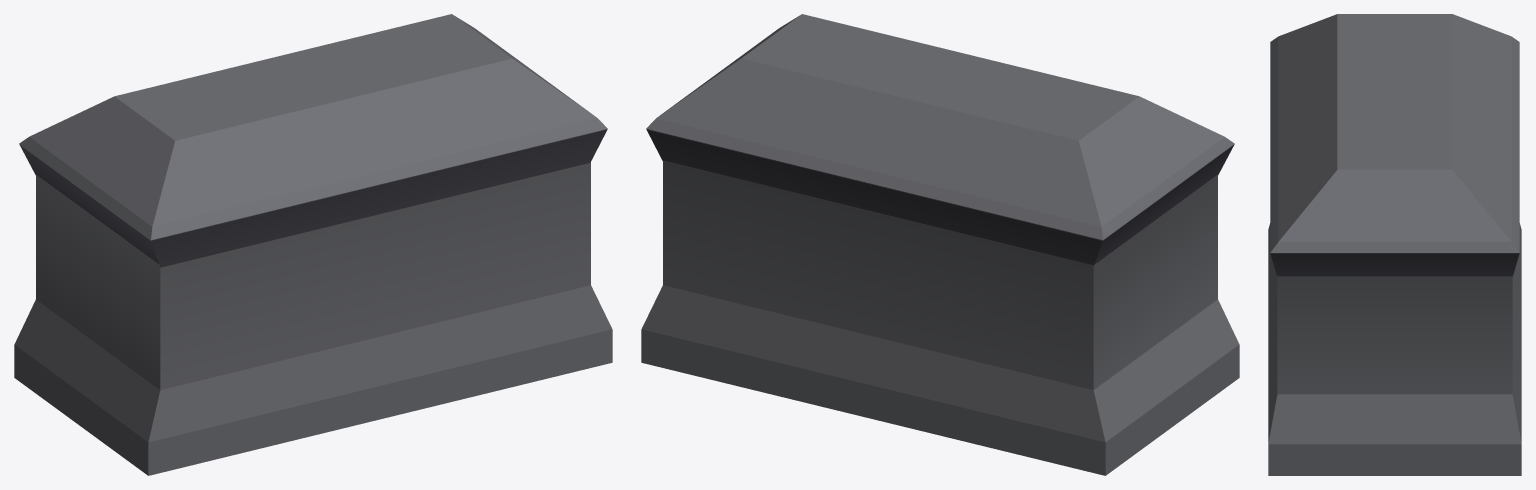
File: Tomb_Closed_Unwrapped.FBX
3 renders of one model, left to right at view 1: azimuth 30°, elevation 25°; view 2: azimuth 150°, elevation 25°; view 3: azimuth 270°, elevation 25°, orthographic. The views are drawn at different scales.
Visible parts, largest first — view 1: Tomb_2; view 2: Tomb_2; view 3: Tomb_2.
Boxes of the visible parts, box(x1,y1,x2,y2) form: Tomb_2: box(14, 14, 612, 475); Tomb_2: box(641, 14, 1239, 475); Tomb_2: box(1268, 14, 1521, 475).
Bounding box in the file's own units: 2 × 1.21 × 1.
